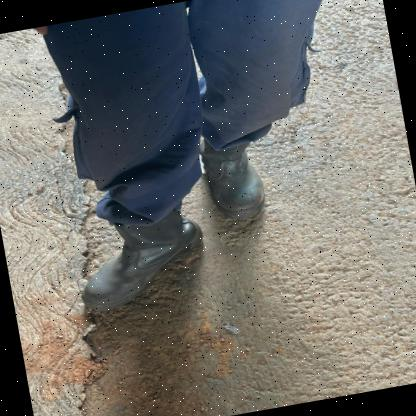bota: (50, 194, 220, 318), (282, 211, 284, 212)
